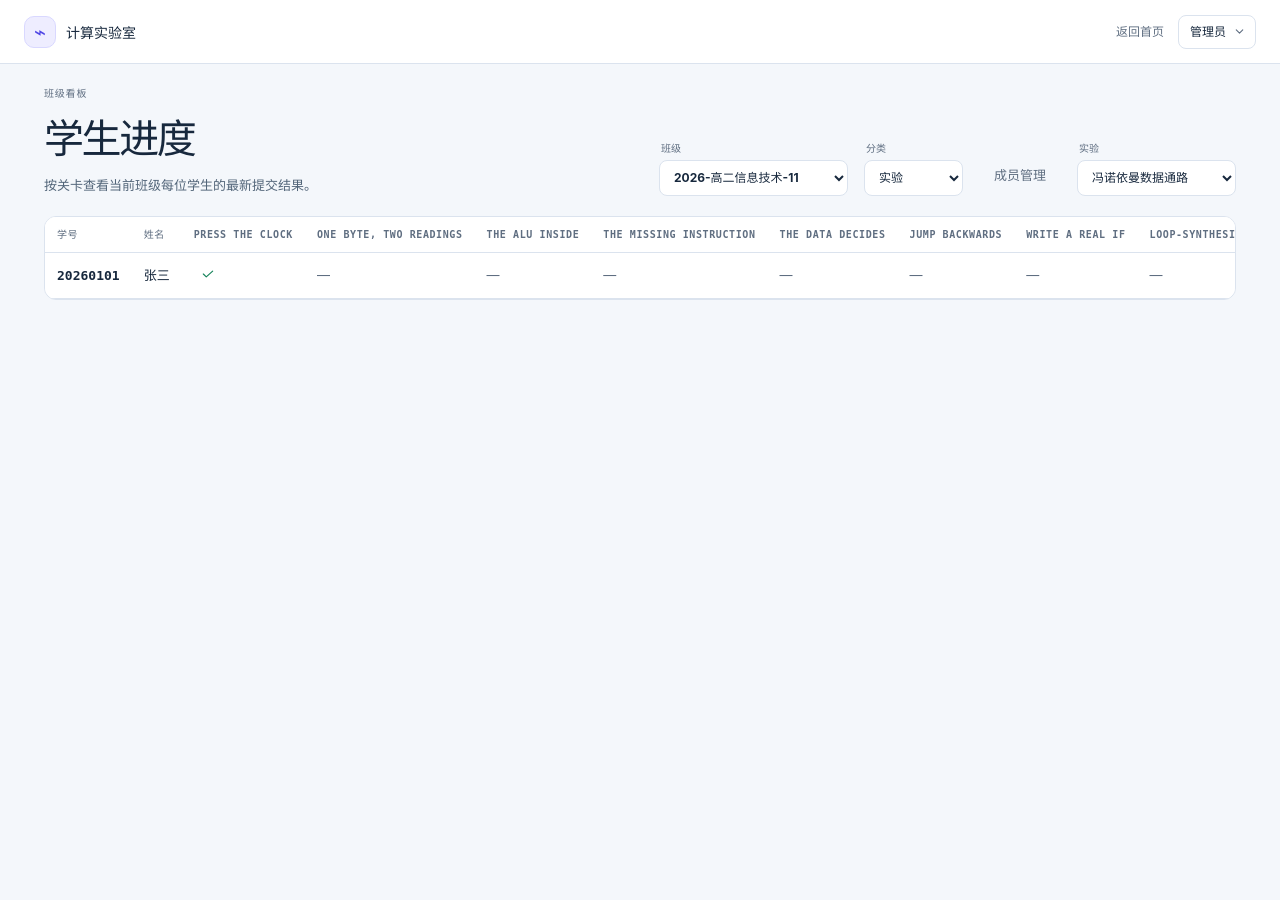
it: TeacherDashboardPage › lets teachers inspect first predictions after a CPU stage passes
This screenshot has width=1280, height=900.
Click the button titled "查看提交详情" at (208, 275), box [194,262,222,288]
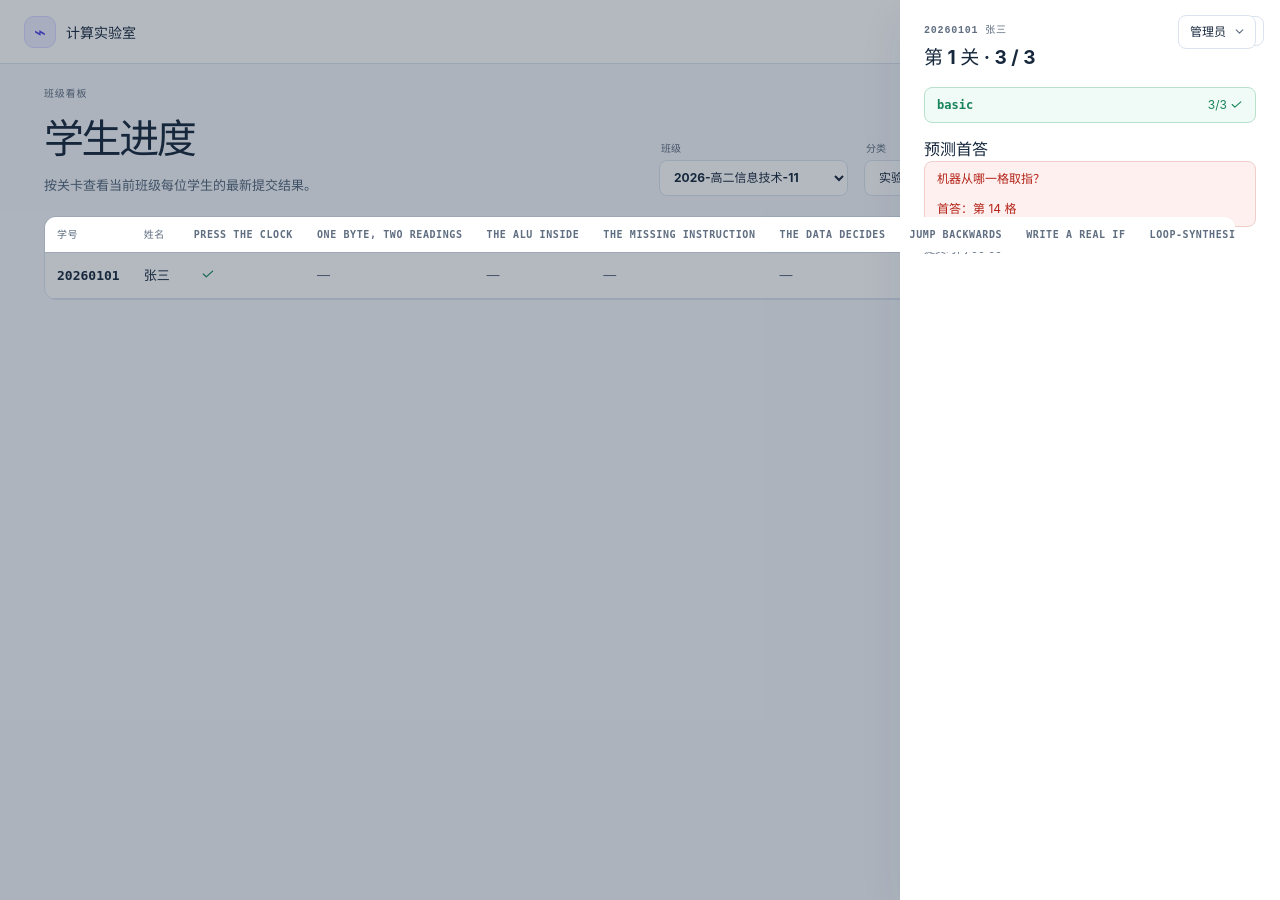
Expected: the element "预测首答" shows "第 14 格", [973,200,1016,216]
